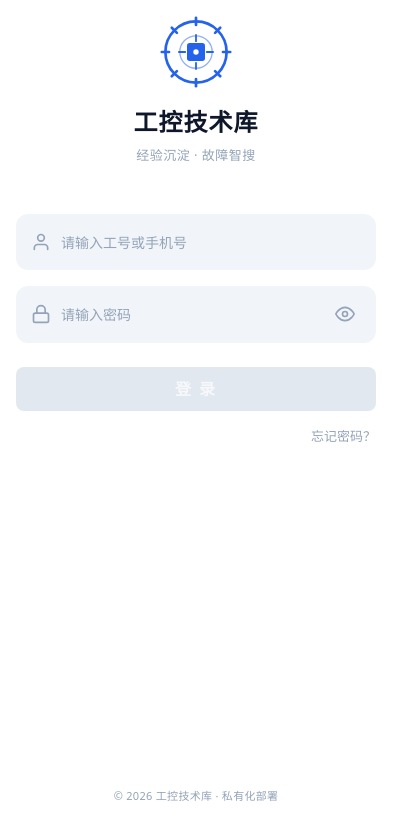
it: LoginView — 表单交互 › 点击忘记密码应该显示提示信息
The image size is (393, 818).
Click the button with class "forgot-link" at (344, 436), box [311, 426, 376, 446]
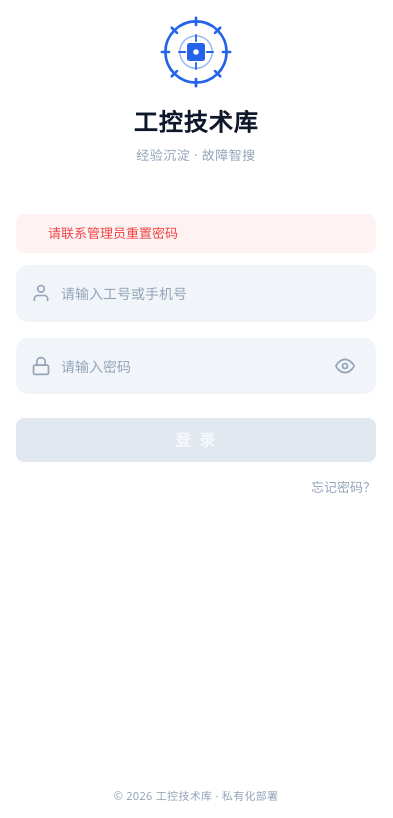
expect the message "请联系管理员重置密码" is shown: met, box [16, 214, 376, 253]
expect the message with class "error-banner" shows "管理员重置密码": met, box [48, 224, 178, 242]
